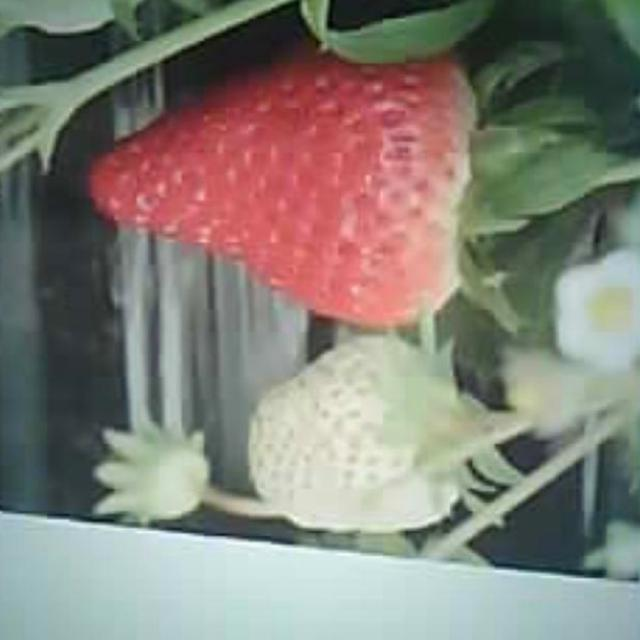Healthy Fruit: (86, 50, 479, 331), (249, 336, 463, 530)
